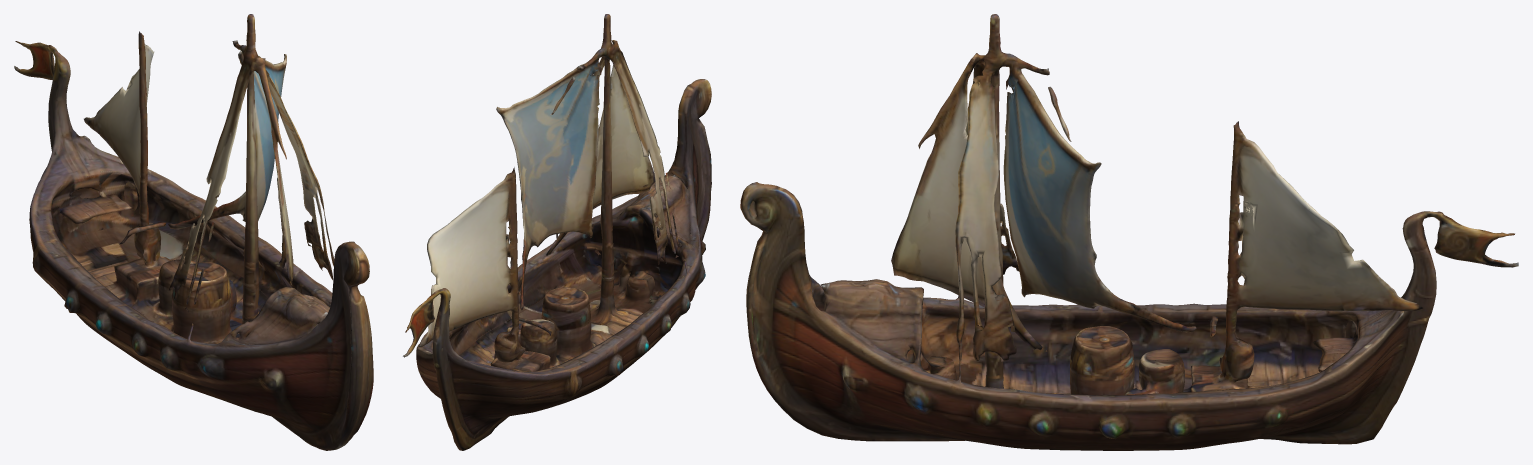
Rendered from Stylized_small_boat.glb.
The picture shows the model from 3 angles, left to right: view 1: azimuth 30°, elevation 25°; view 2: azimuth 150°, elevation 25°; view 3: azimuth 270°, elevation 25°; orthographic projection. The views are drawn at different scales.
Bounding box in the file's own units: 0.6666 × 1.22 × 2.02.
1 material, 1 textured.
